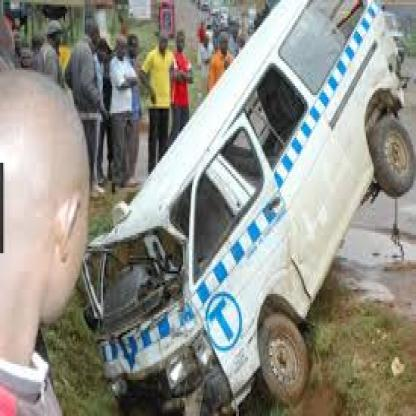accident: (83, 0, 414, 416)
